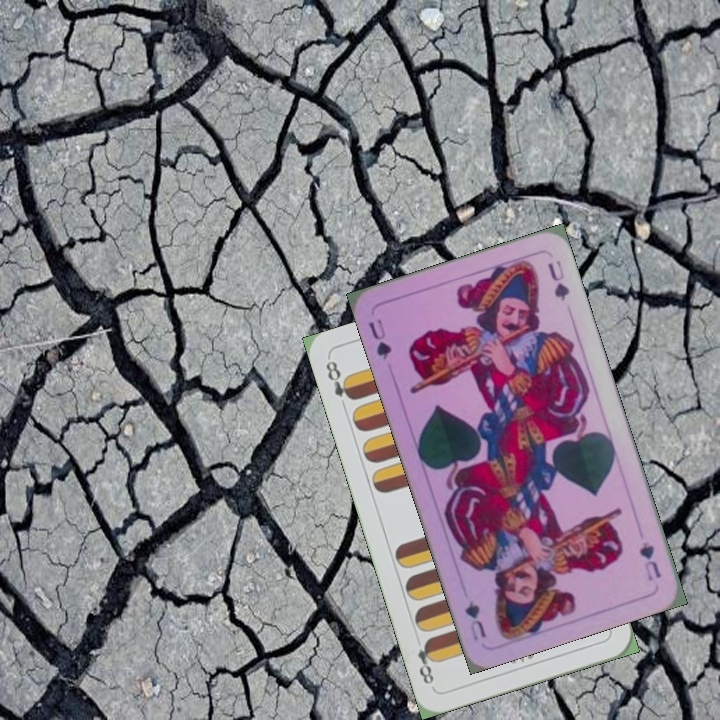E8: (321, 356, 357, 403)
GU: (364, 315, 394, 363), (635, 537, 664, 584)
